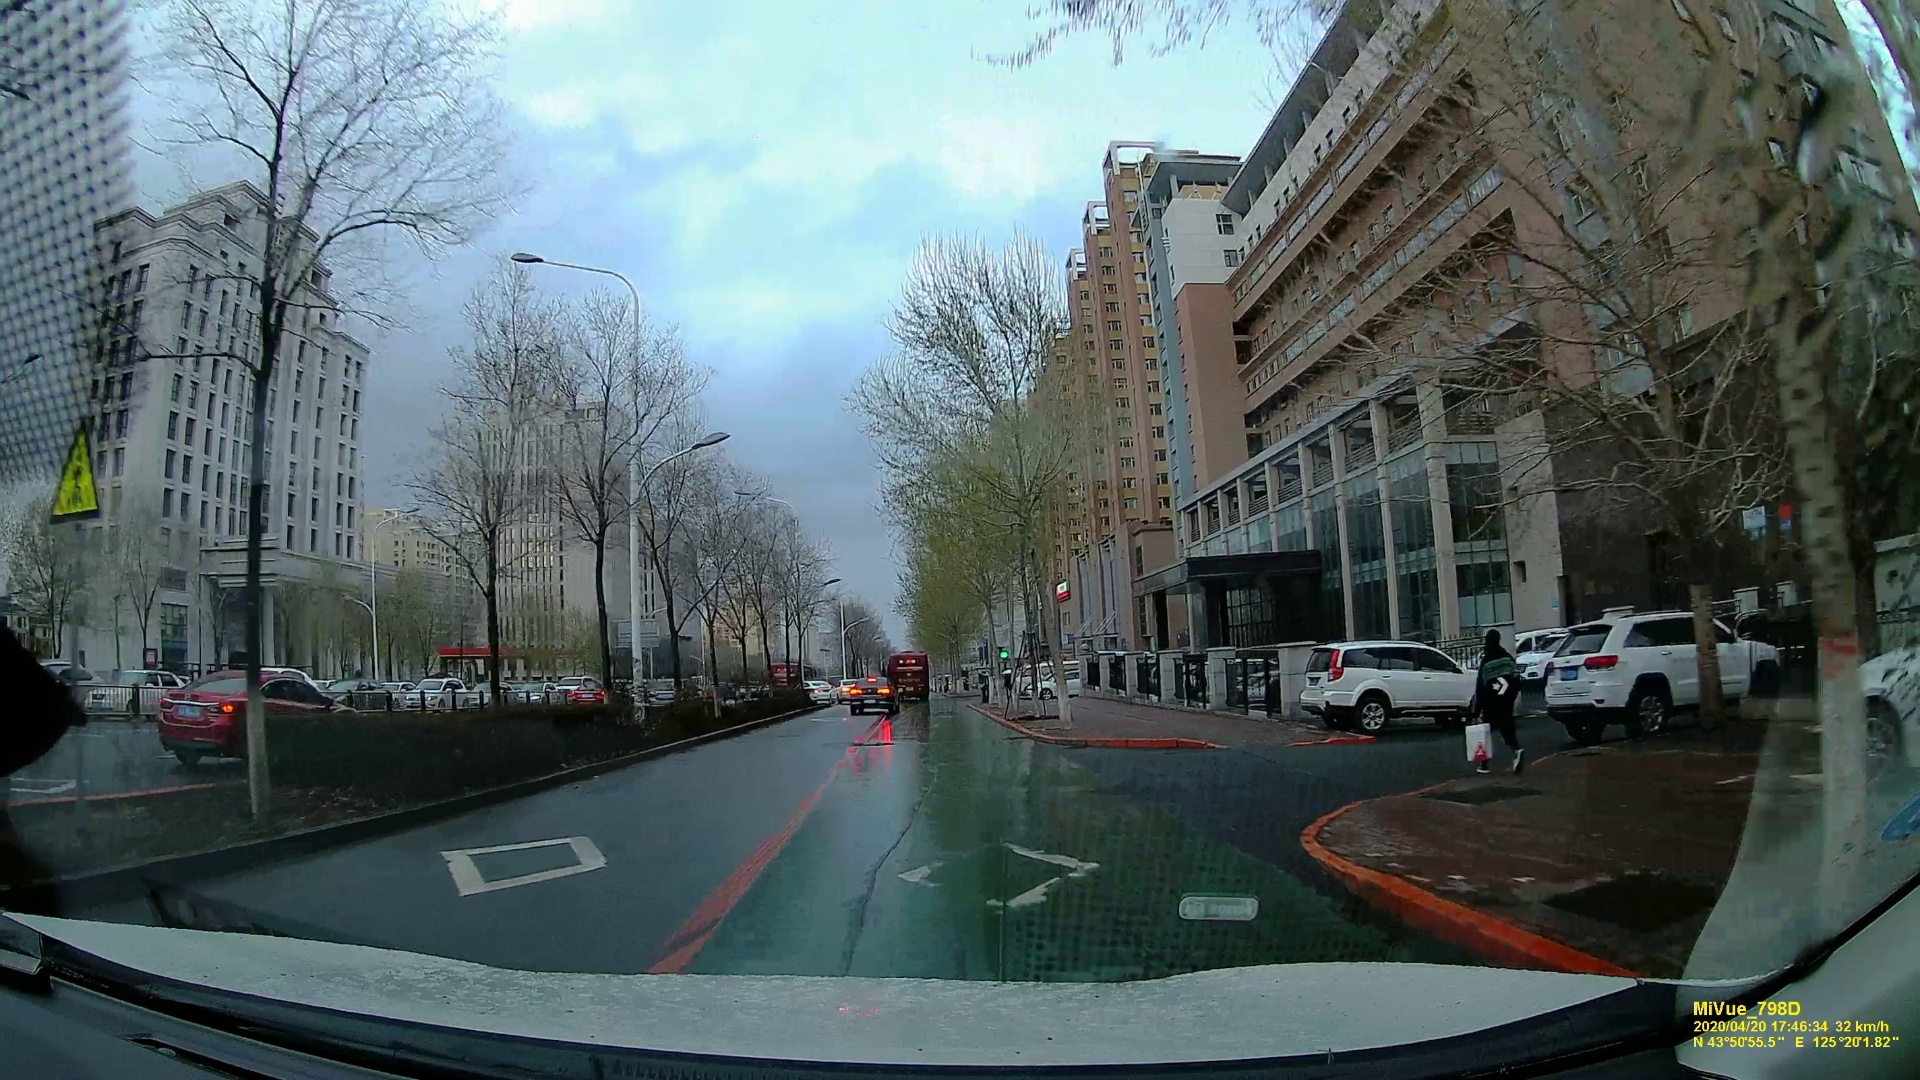bus: (885, 651, 927, 701)
person: (1464, 630, 1528, 774)
traffic_sign: (50, 429, 98, 515)
vehicle: (1535, 607, 1785, 733), (147, 665, 350, 773), (1298, 638, 1480, 729), (543, 678, 603, 708), (850, 677, 897, 715), (808, 680, 833, 702)
